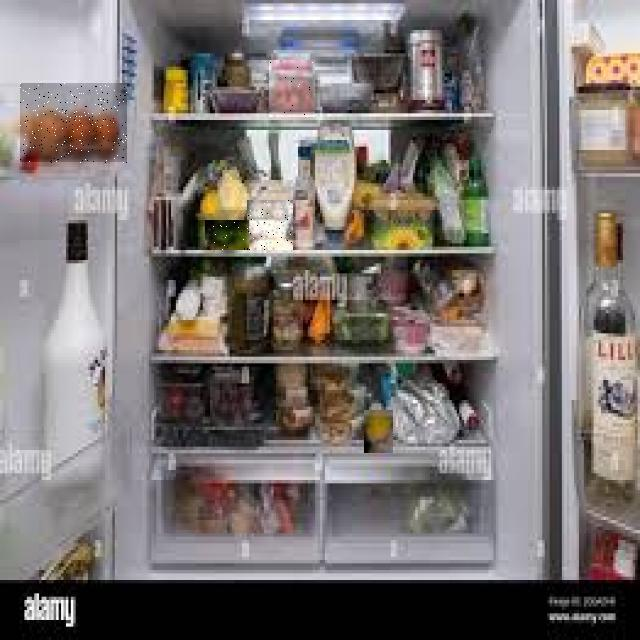Eggs: (20, 84, 127, 164), (247, 200, 293, 250)
Lemon: (364, 410, 393, 453)
Lime: (205, 220, 249, 250)
Tomatoes: (269, 60, 315, 117)
